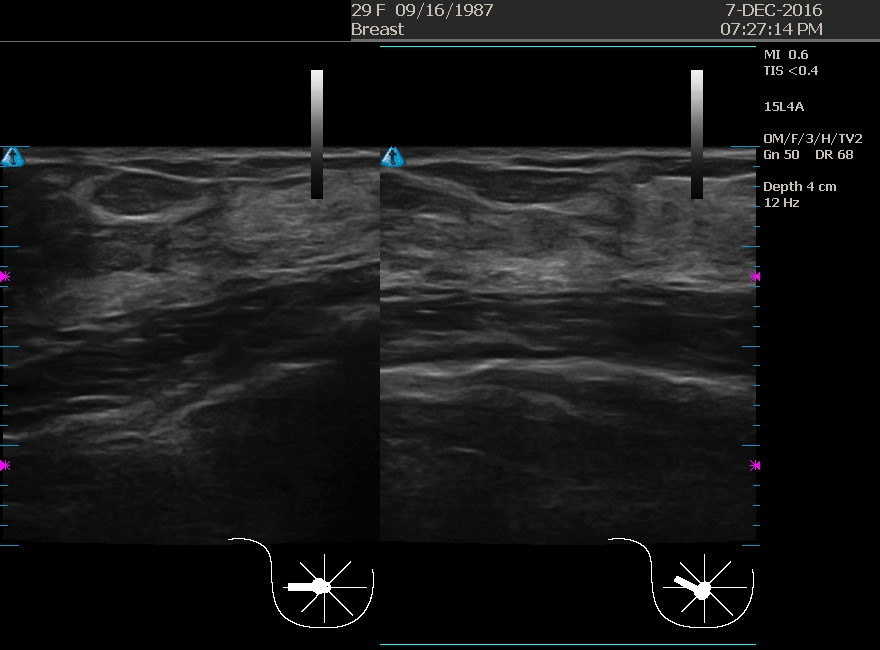BIRADS_3: (52, 156, 252, 356), (414, 148, 614, 348)
